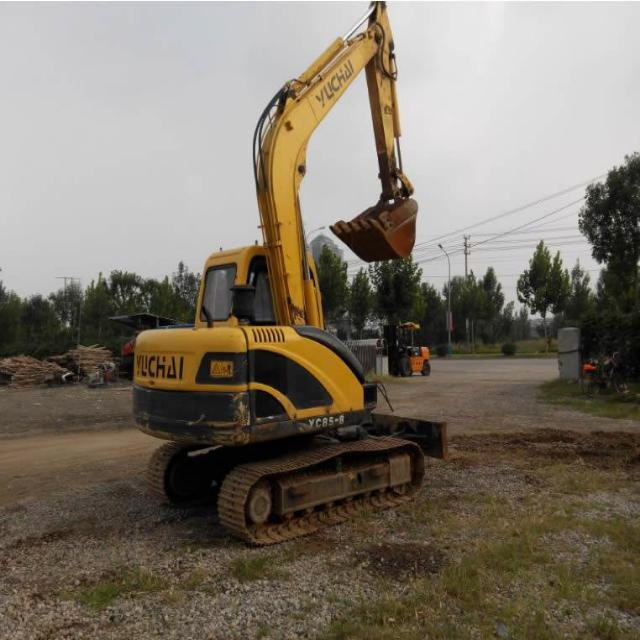excavator: (130, 1, 422, 549)
